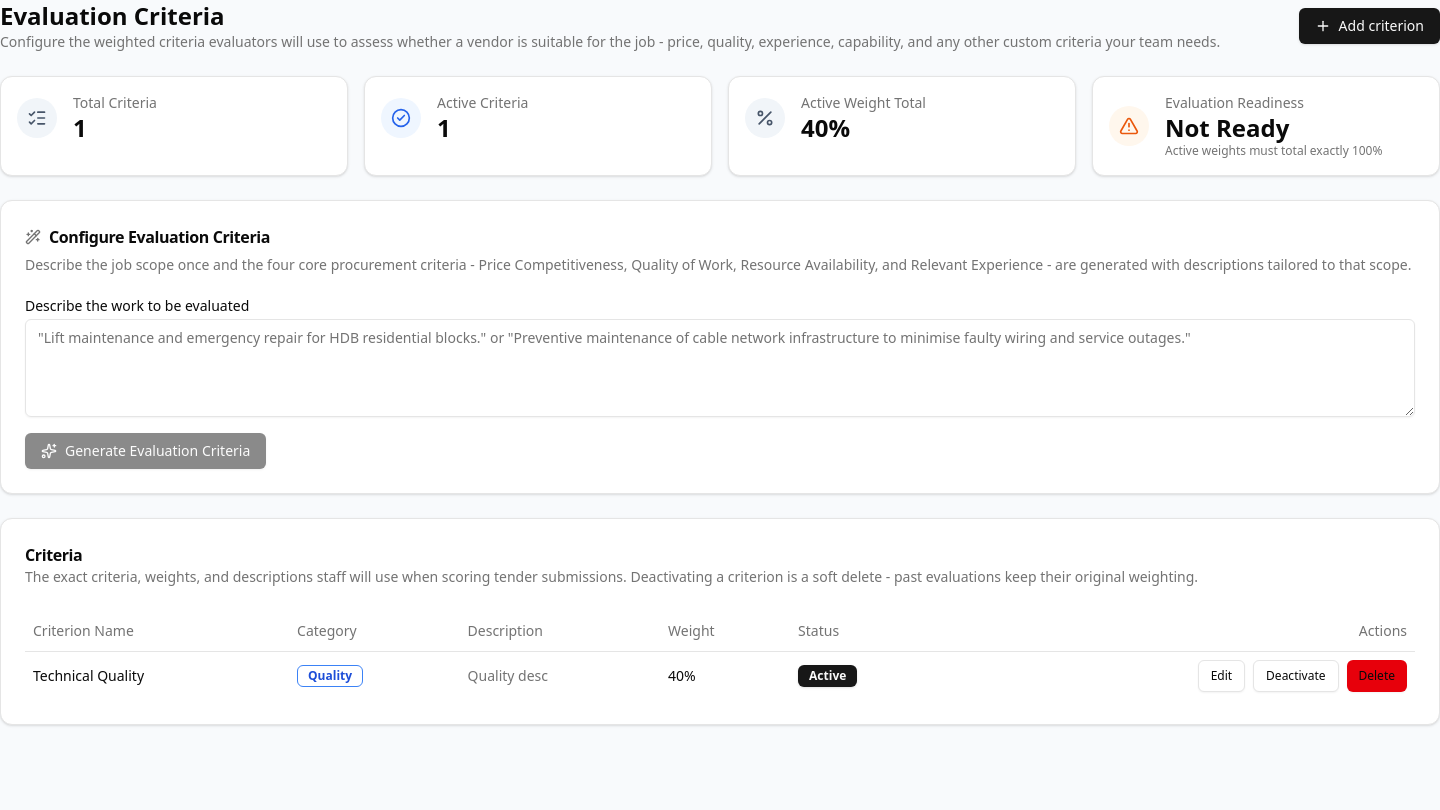
Test: EvaluationCriteriaPage (Jerrold - Scope B) › permanently deletes an unused criterion after confirmation
This screenshot has width=1440, height=810.
Expected: the text "Technical Quality" is shown, 33,666 -> 144,684
Click the button "Delete" at coordinates (1377, 676), box 1346,660 -> 1407,692
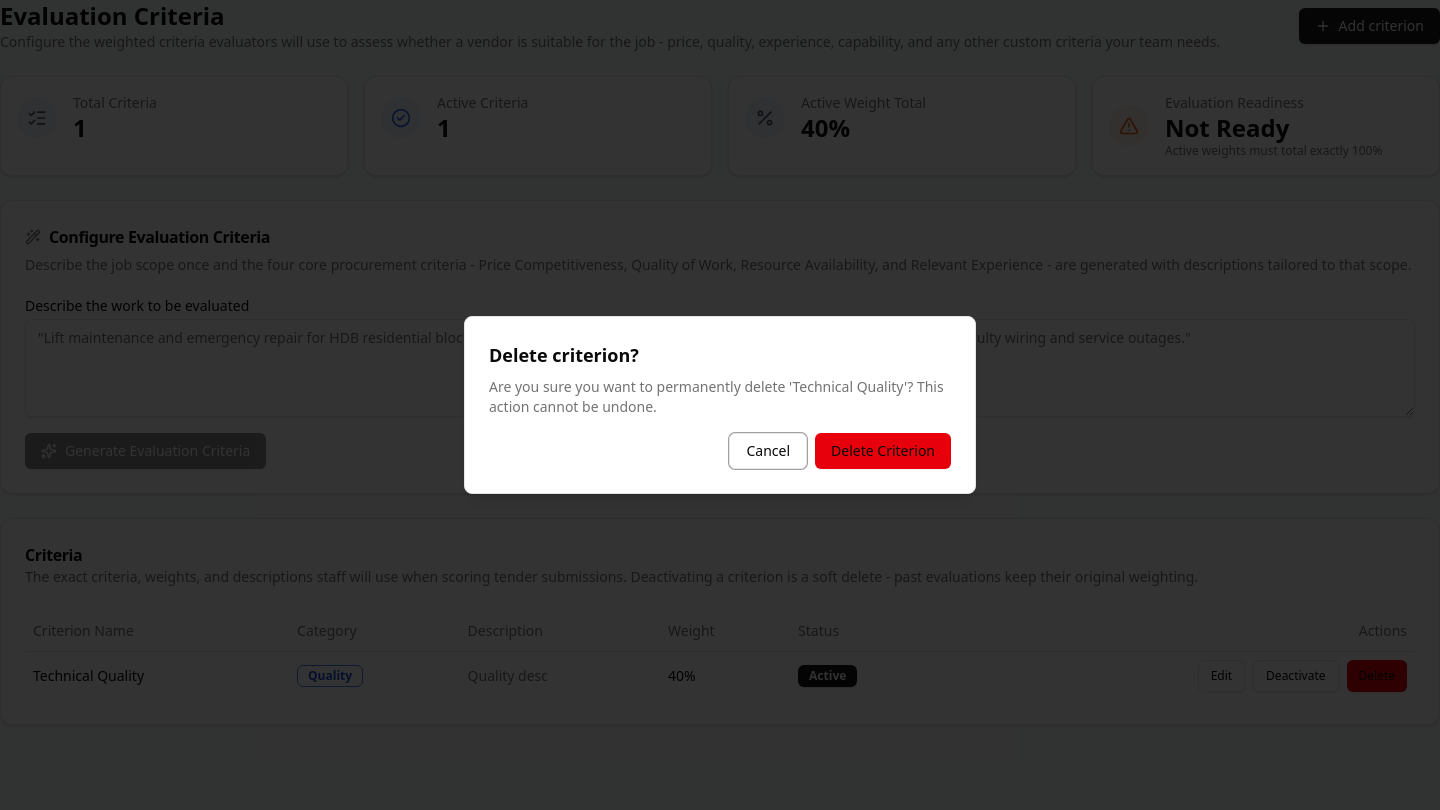
Expected: the heading "Delete criterion?" is shown, 489,343 -> 639,367
Click the button "Delete Criterion" at coordinates (883, 451), box 815,433 -> 951,469
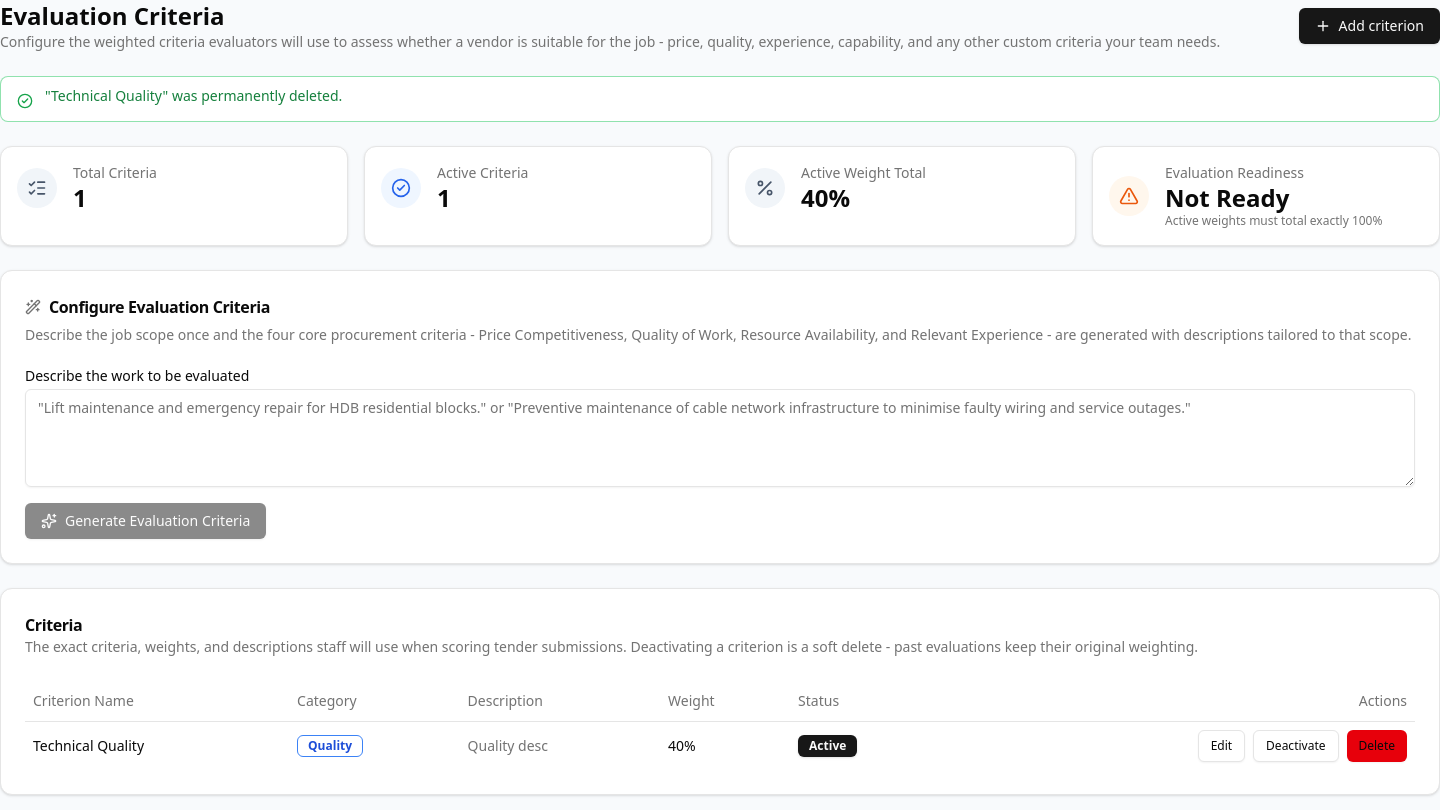
Expected: the text "\"Technical Quality\" was permanently deleted." is shown, 45,86 -> 342,105
